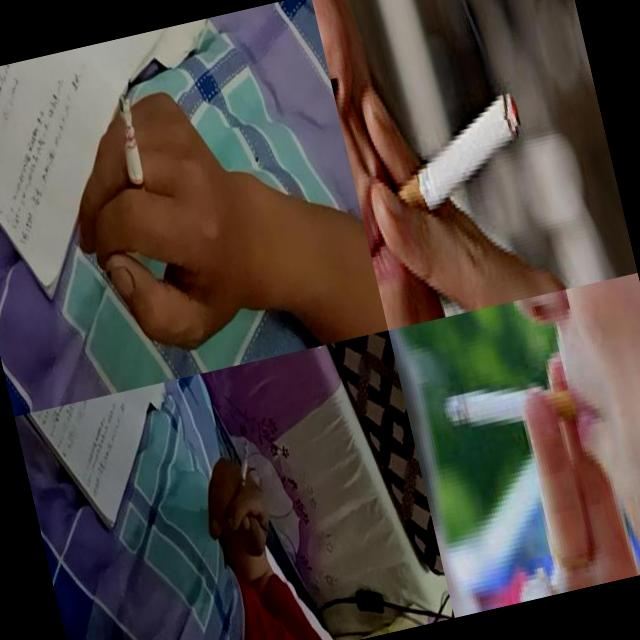smoke: (360, 86, 540, 242), (441, 364, 586, 450), (107, 92, 156, 212), (225, 440, 260, 498)
